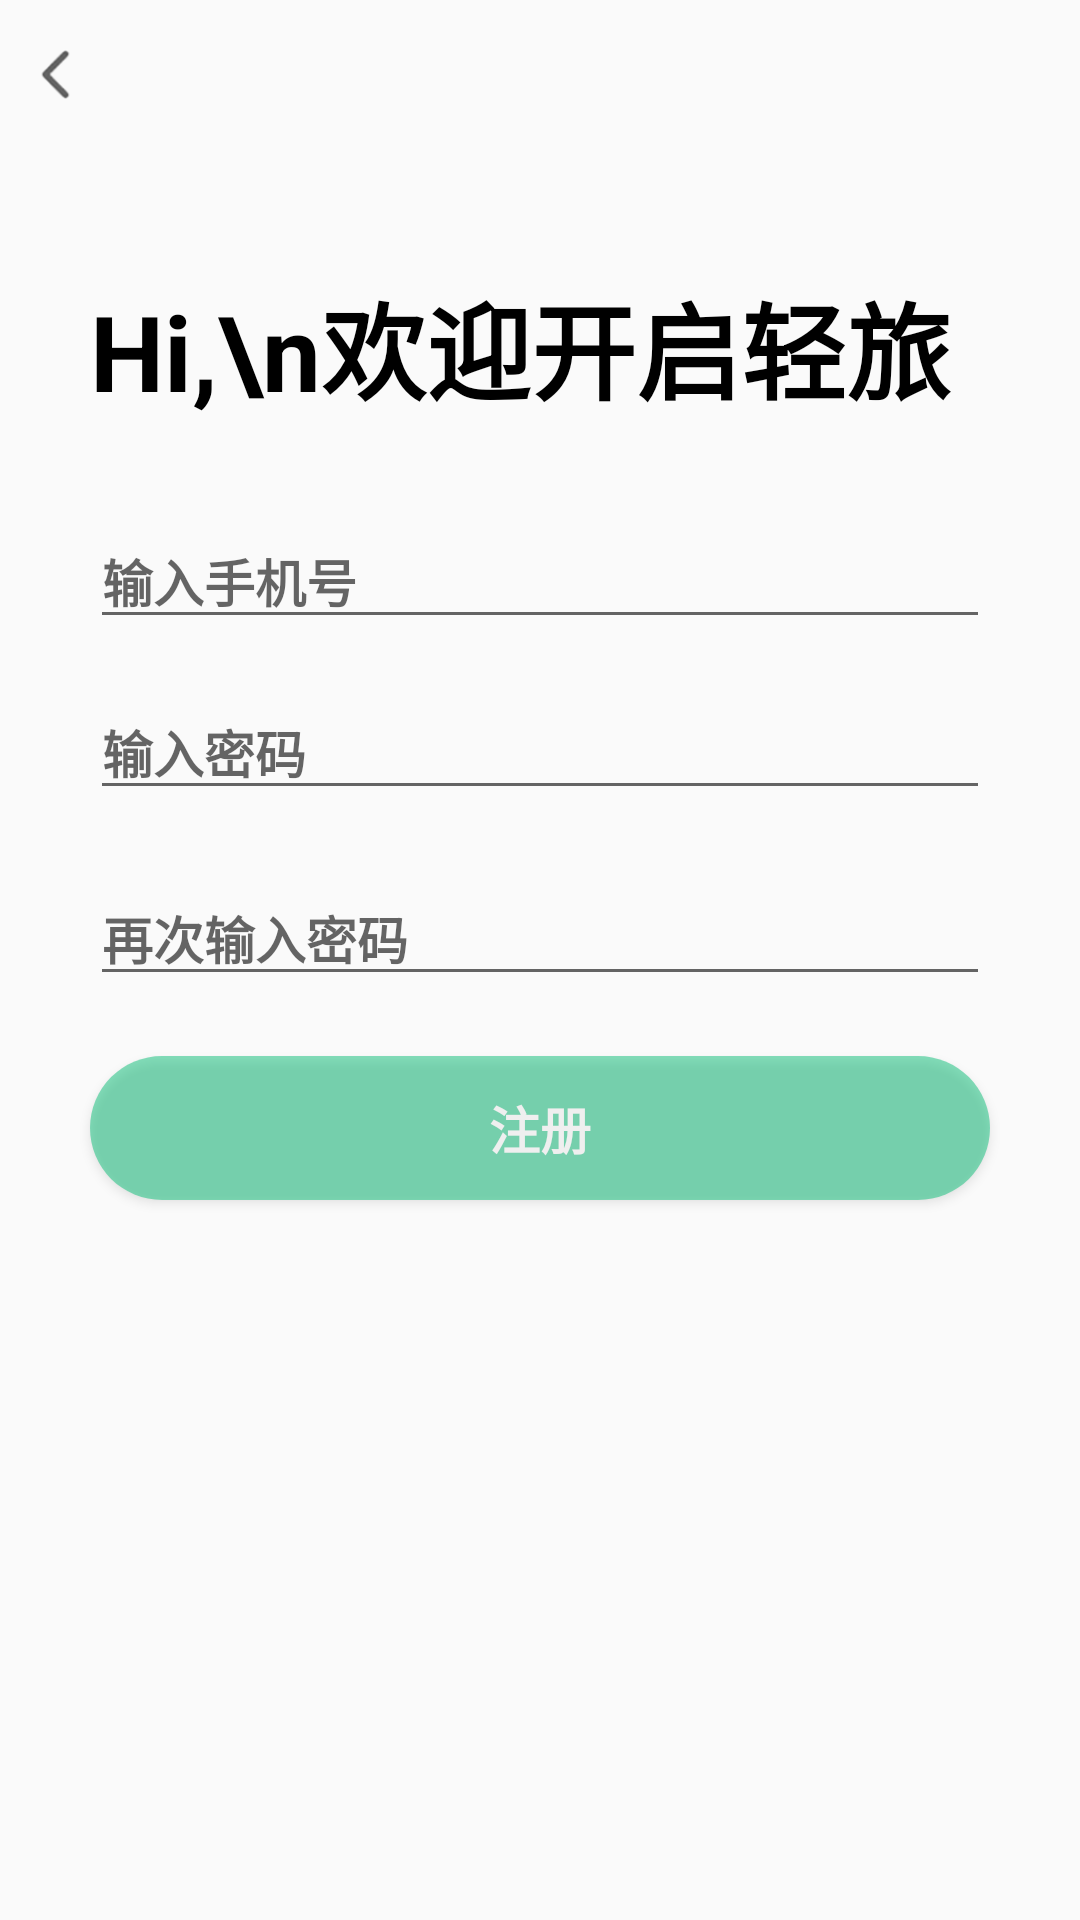

Locate icon controls on the screen. Image size 1080px x 1920px, boxes as (x1, y1, x2, y2).
back: (42, 50, 69, 99)
